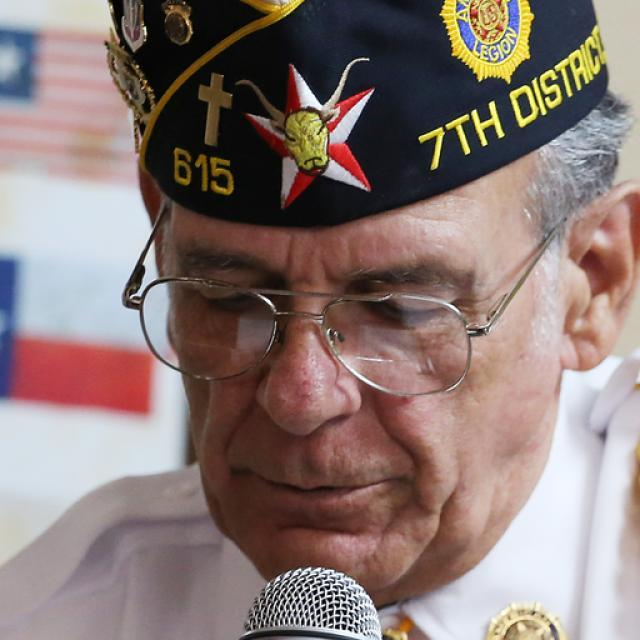anger: (163, 136, 558, 595)
